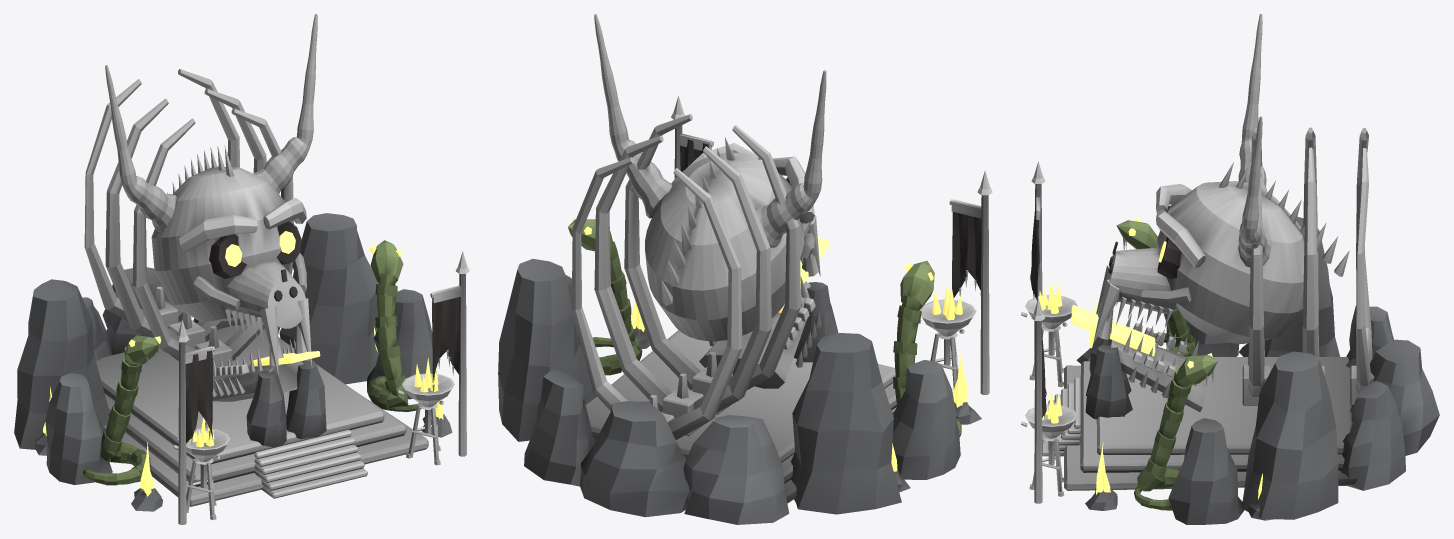
The model's file is skull-of-typhon-l2.glb.
3 views of the same model, side by side, from view 1: azimuth 30°, elevation 25°; view 2: azimuth 150°, elevation 25°; view 3: azimuth 270°, elevation 25° (orthographic). The views are drawn at different scales.
Parts seen in each view (by area): view 1: skull-of-typhon-l2; view 2: skull-of-typhon-l2; view 3: skull-of-typhon-l2.
Part boxes in pixels (bbox=[...]): skull-of-typhon-l2: bbox=[14, 14, 469, 524]; skull-of-typhon-l2: bbox=[498, 14, 992, 524]; skull-of-typhon-l2: bbox=[1021, 14, 1439, 524].
Size of the model in its own units: 1.44 by 1.35 by 1.38.
